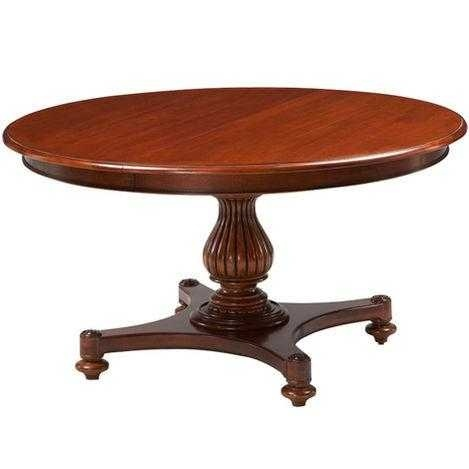obstacle: (3, 88, 466, 405)
